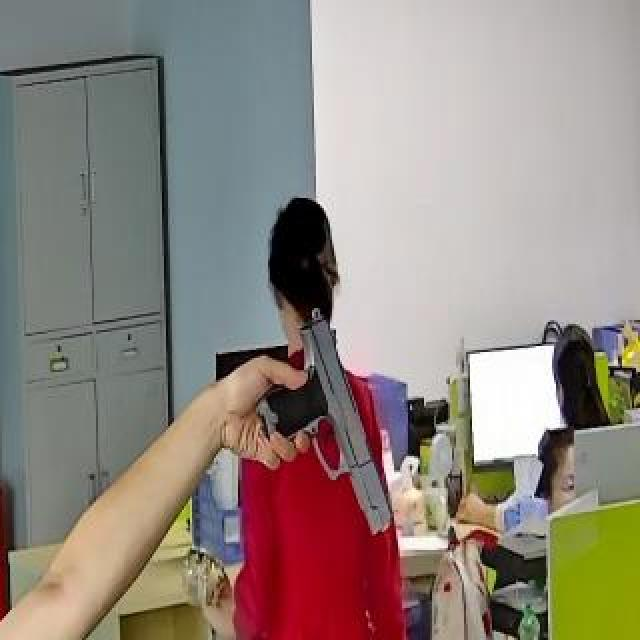Guns: (237, 265, 430, 541)
